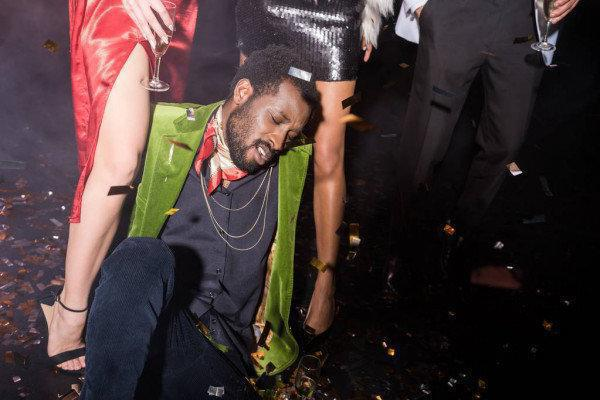Drunk: (239, 79, 305, 172)
